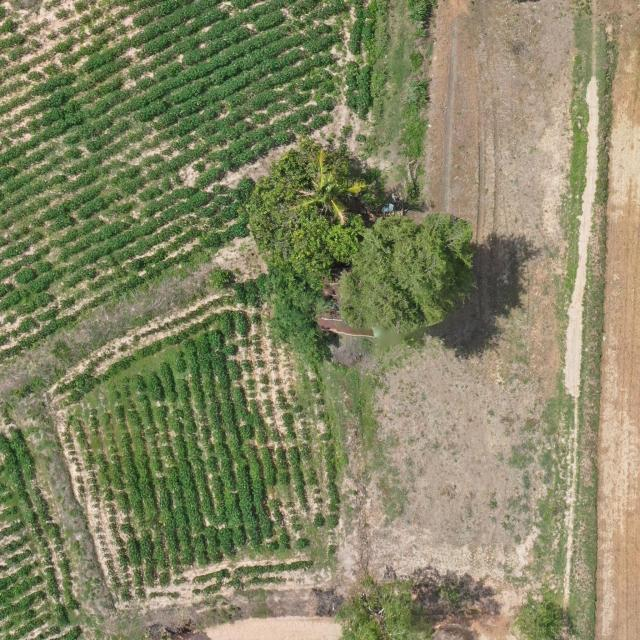tree: (243, 139, 367, 293), (336, 212, 476, 338), (275, 144, 373, 228), (332, 569, 418, 640), (514, 598, 564, 640)
